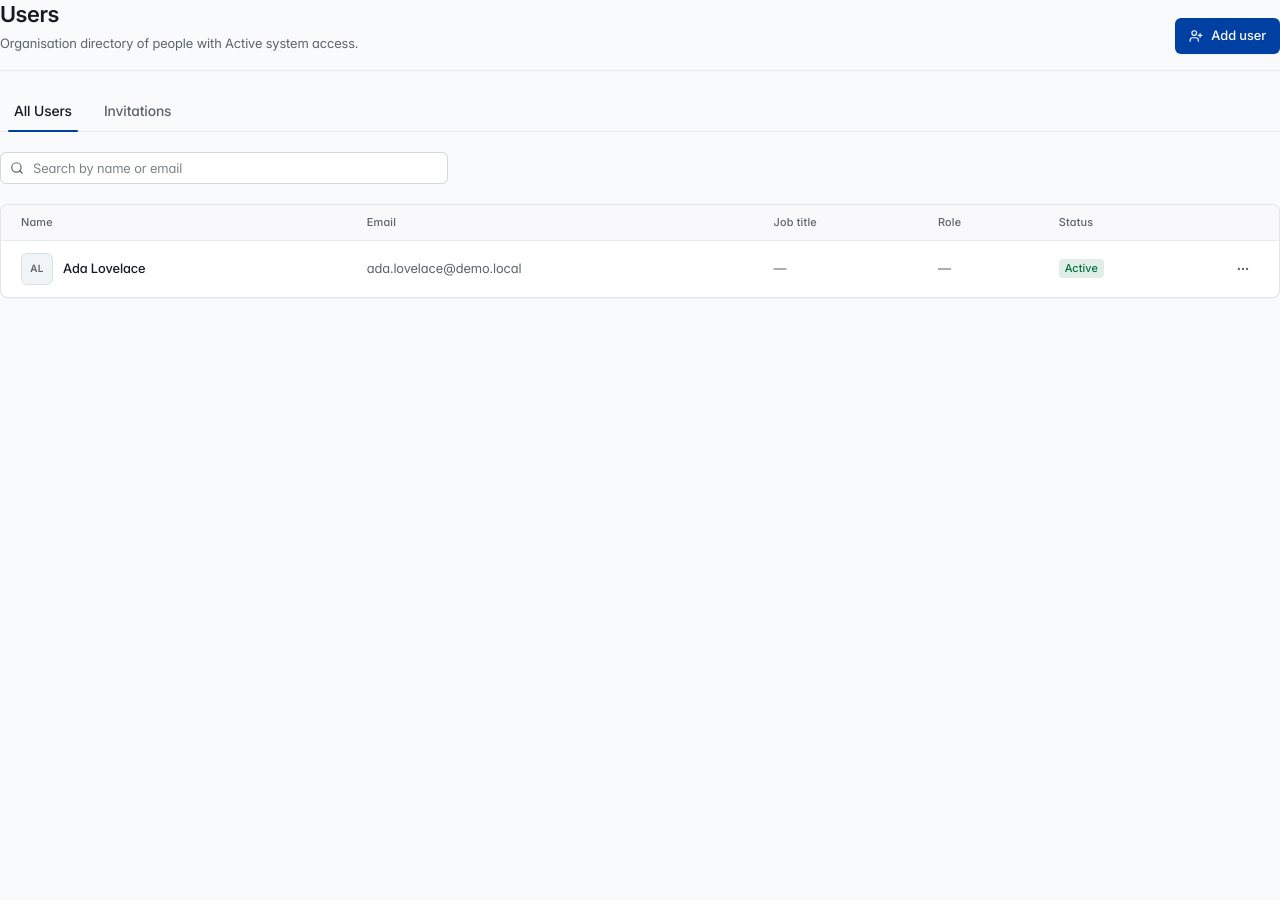
UsersListPage user details › shows forbidden state in user details
Click the button named "Actions for Ada Lovelace".
click(1243, 269)  # box x1=1227 y1=253 x2=1259 y2=285
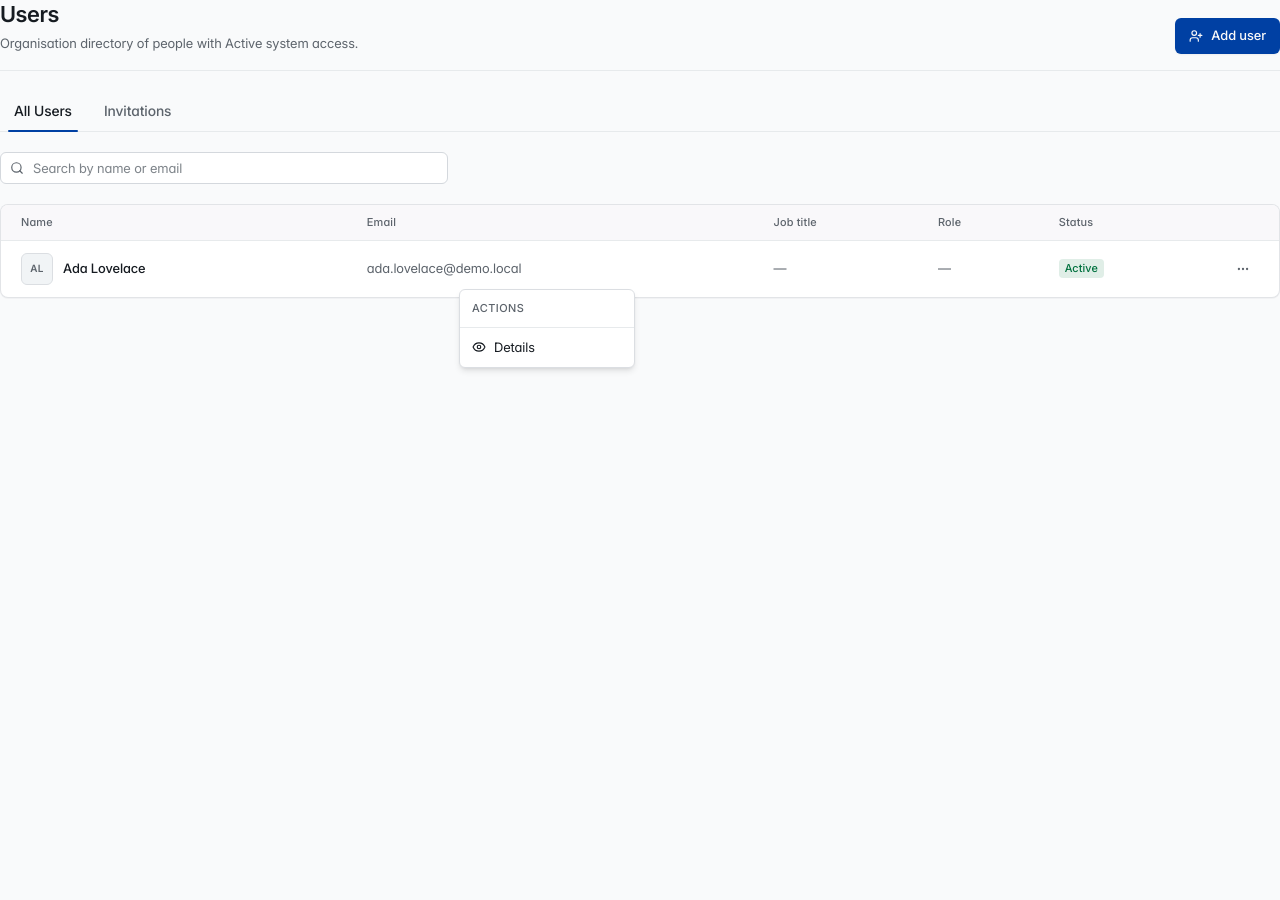
Click the menu item "Details".
click(503, 346)  # box x1=472 y1=338 x2=535 y2=354
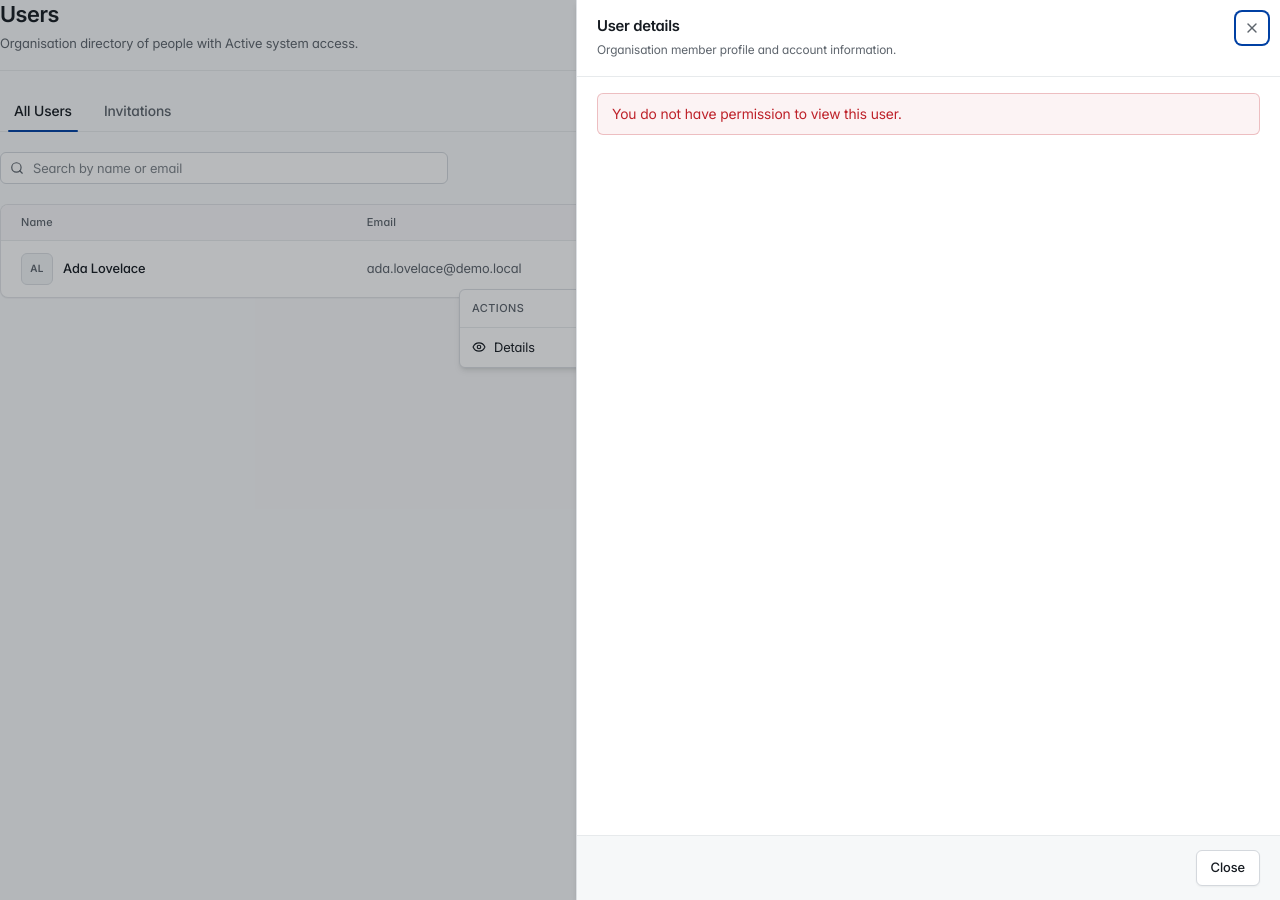
Check: the text "You do not have permission to view this user." is shown, box x1=597 y1=93 x2=1260 y2=135
